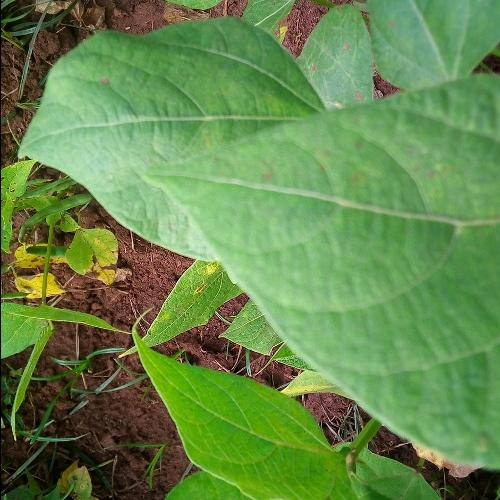sehat: (270, 168, 500, 369)
